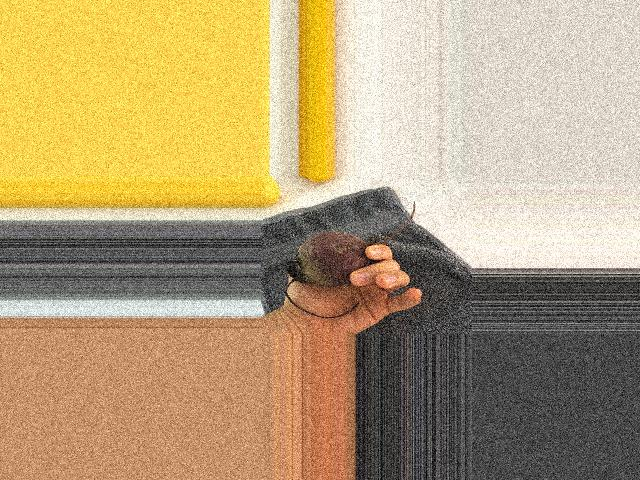beet: (286, 201, 415, 318)
